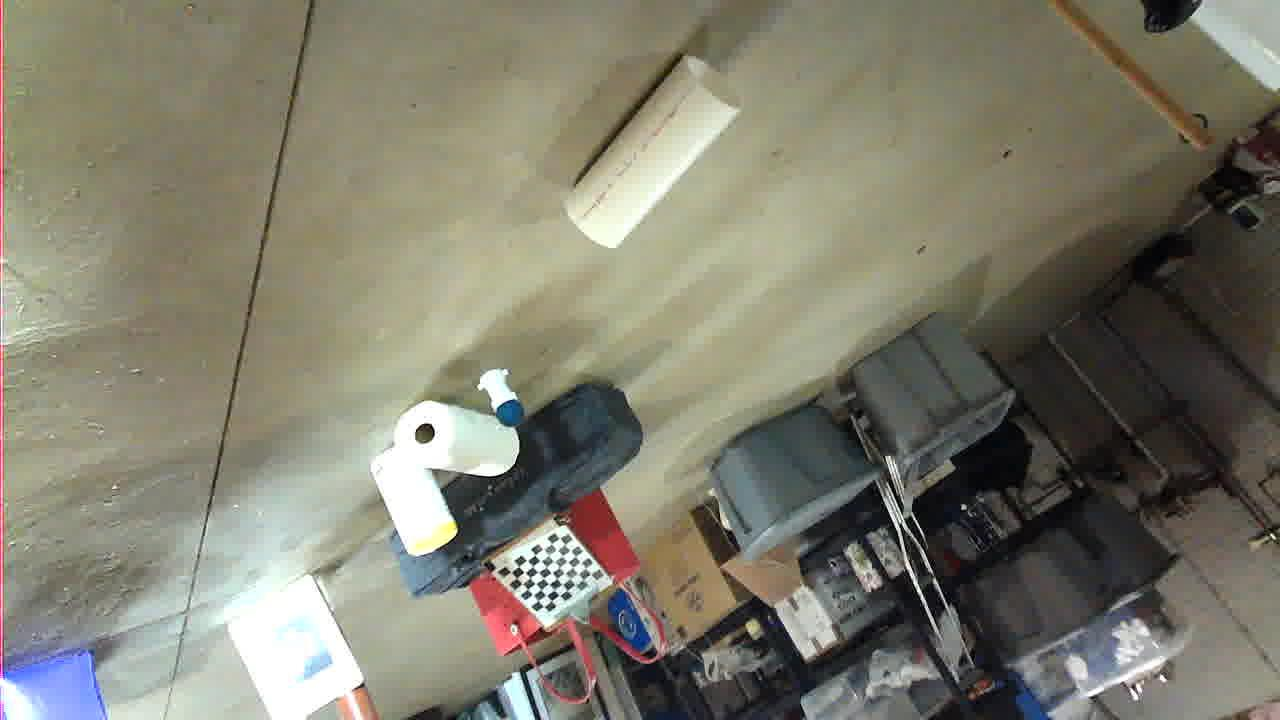coral: (540, 472, 710, 661)
